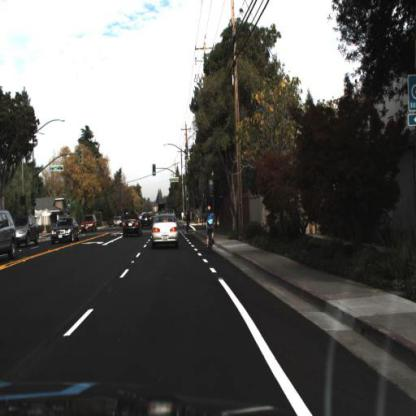biker: (203, 204, 215, 258), (206, 200, 216, 250)
car: (48, 214, 81, 250), (152, 211, 179, 251), (14, 216, 43, 252), (154, 213, 181, 250), (49, 216, 81, 247), (2, 207, 20, 259), (120, 211, 141, 239), (121, 213, 144, 238), (80, 210, 100, 237), (81, 212, 99, 237)
trafficLight-Green: (152, 161, 161, 179), (184, 191, 192, 209), (153, 162, 158, 179)
